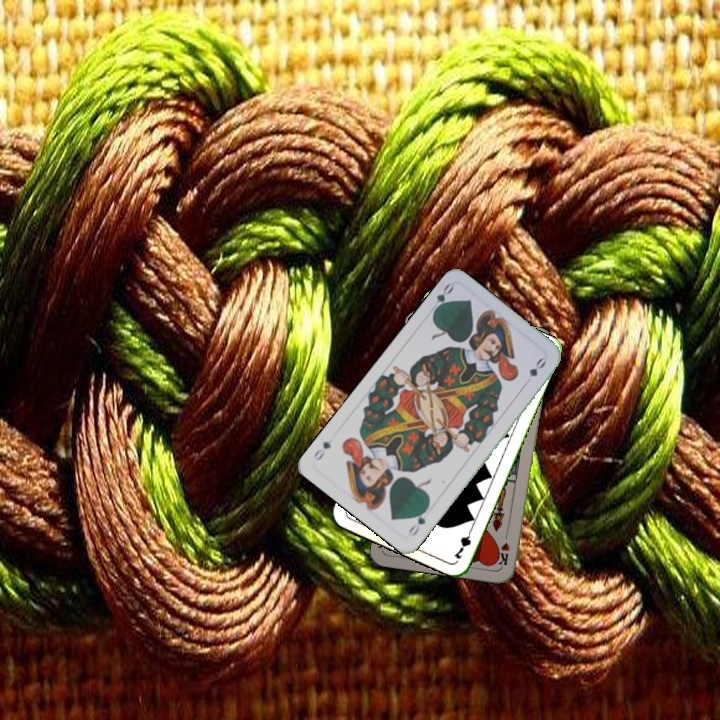G7: (449, 523, 475, 562)
GO: (429, 279, 456, 317), (405, 503, 431, 539)
HK: (494, 528, 513, 567)
